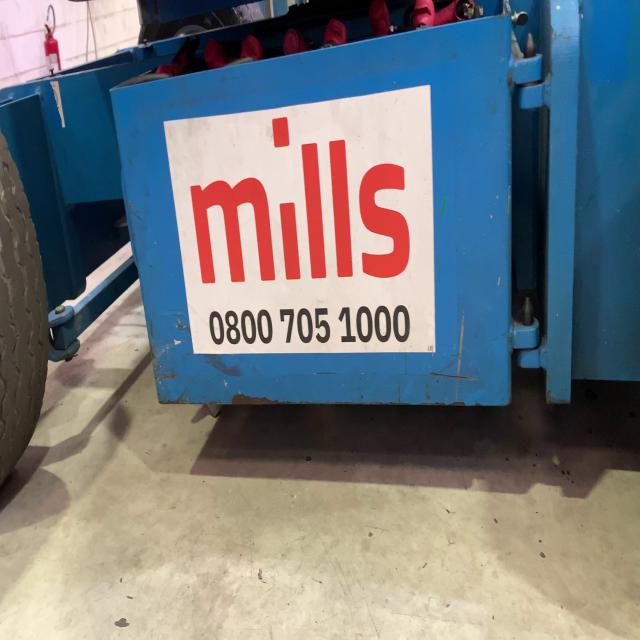Adesivos: (161, 79, 438, 358)
